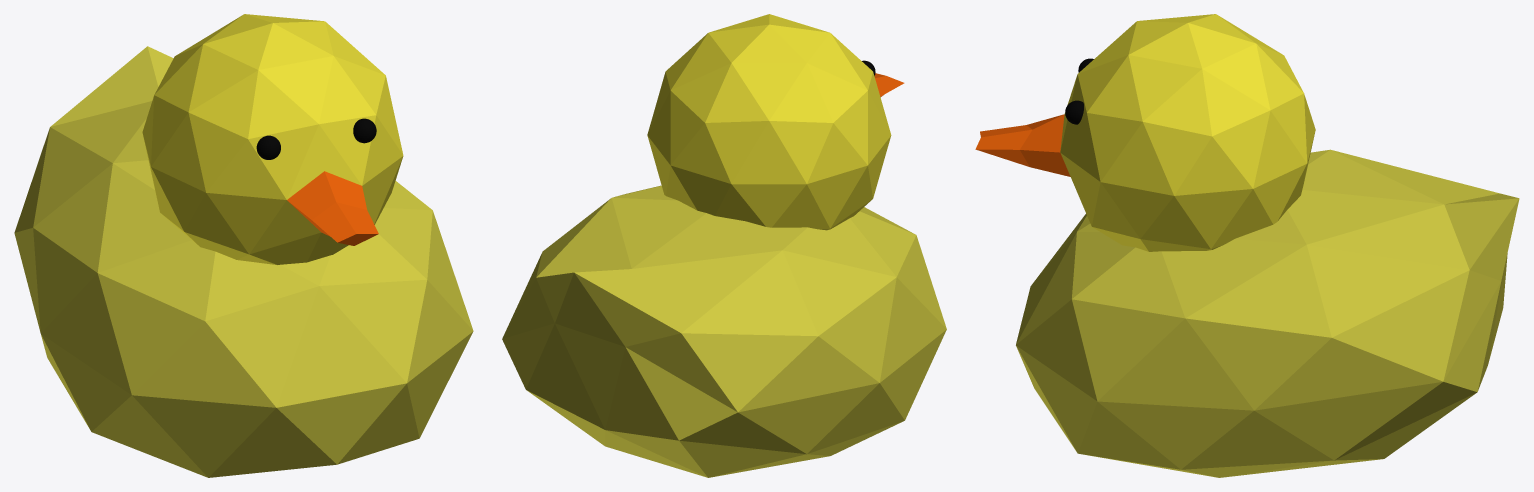
The model's file is duck.fbx.
3 views of the same model, side by side, from view 1: azimuth 30°, elevation 25°; view 2: azimuth 150°, elevation 25°; view 3: azimuth 270°, elevation 25° (orthographic). The views are drawn at different scales.
Parts seen in each view (by area): view 1: Icosphere.002; view 2: Icosphere.002; view 3: Icosphere.002.
Part boxes in pixels (x1,y1,x2,y2): Icosphere.002: (14,14,473,477); Icosphere.002: (502,14,946,477); Icosphere.002: (975,14,1519,477).
Size of the model in its own units: 181 by 211 by 244.
